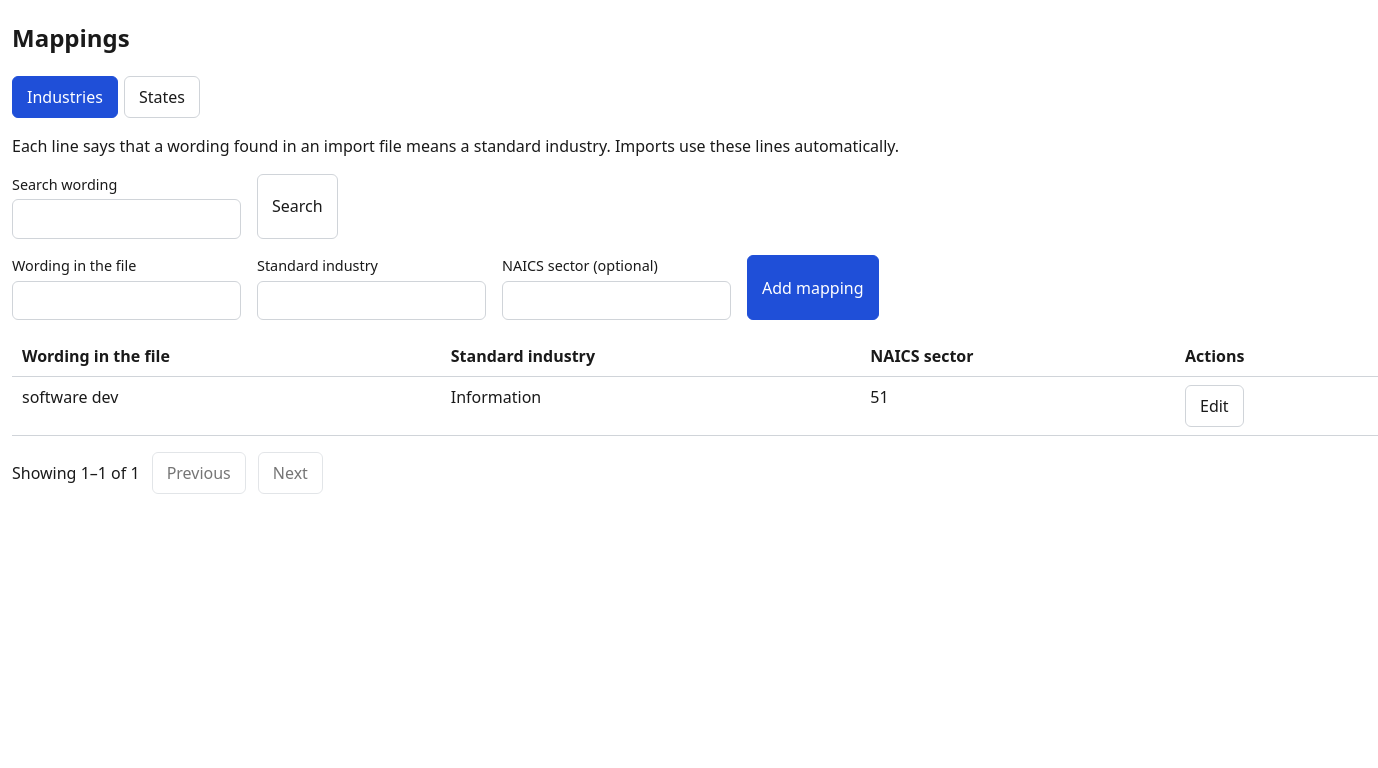
Test: industries › editing saves the changed values and shows a notice
This screenshot has width=1378, height=768.
Expected: the text "software dev" is shown, top-left (12, 377), bottom-right (441, 436)
Click the button with aria-label "Edit software dev". click: (1214, 406)
box: top-left (1185, 385), bottom-right (1244, 427)
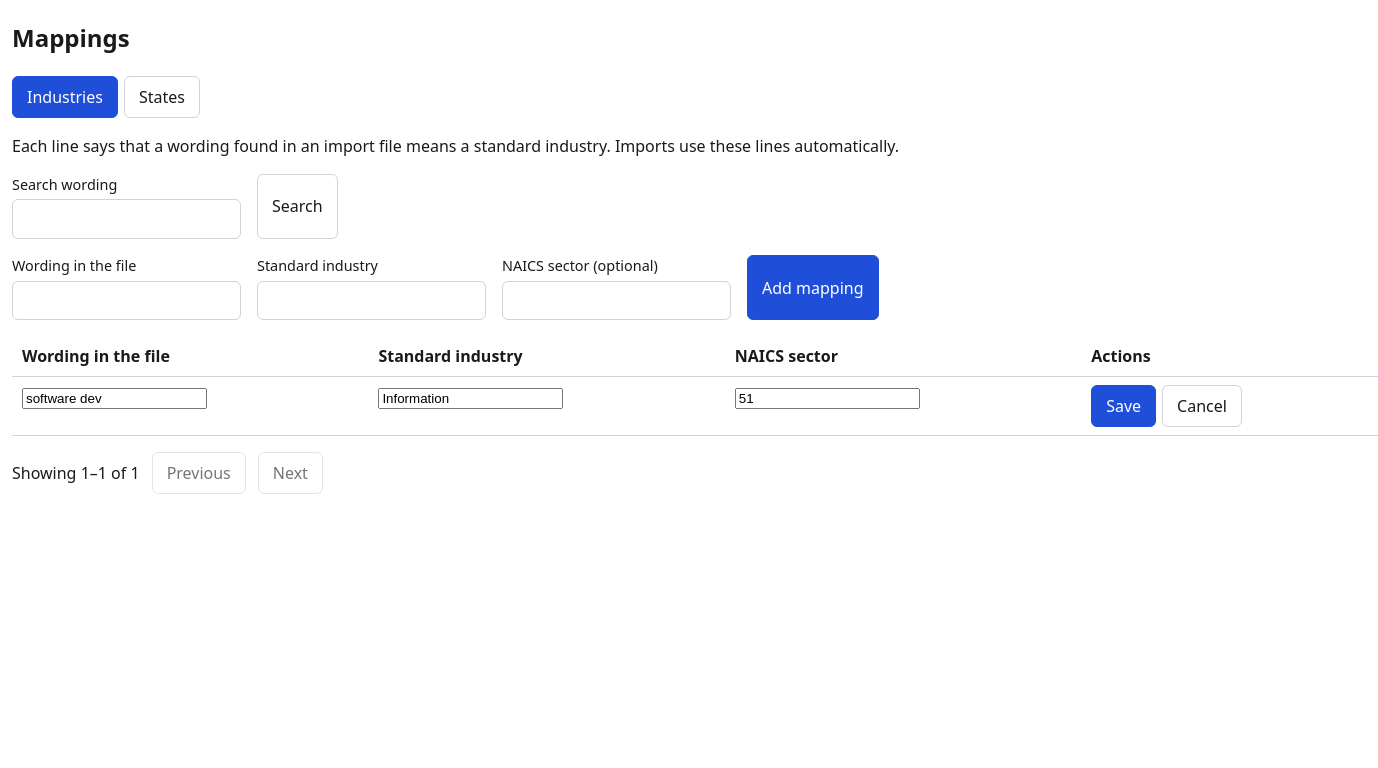
Replace the text in the field named "Standard industry" with "Technology". click: (471, 399)
box: top-left (378, 388), bottom-right (563, 409)
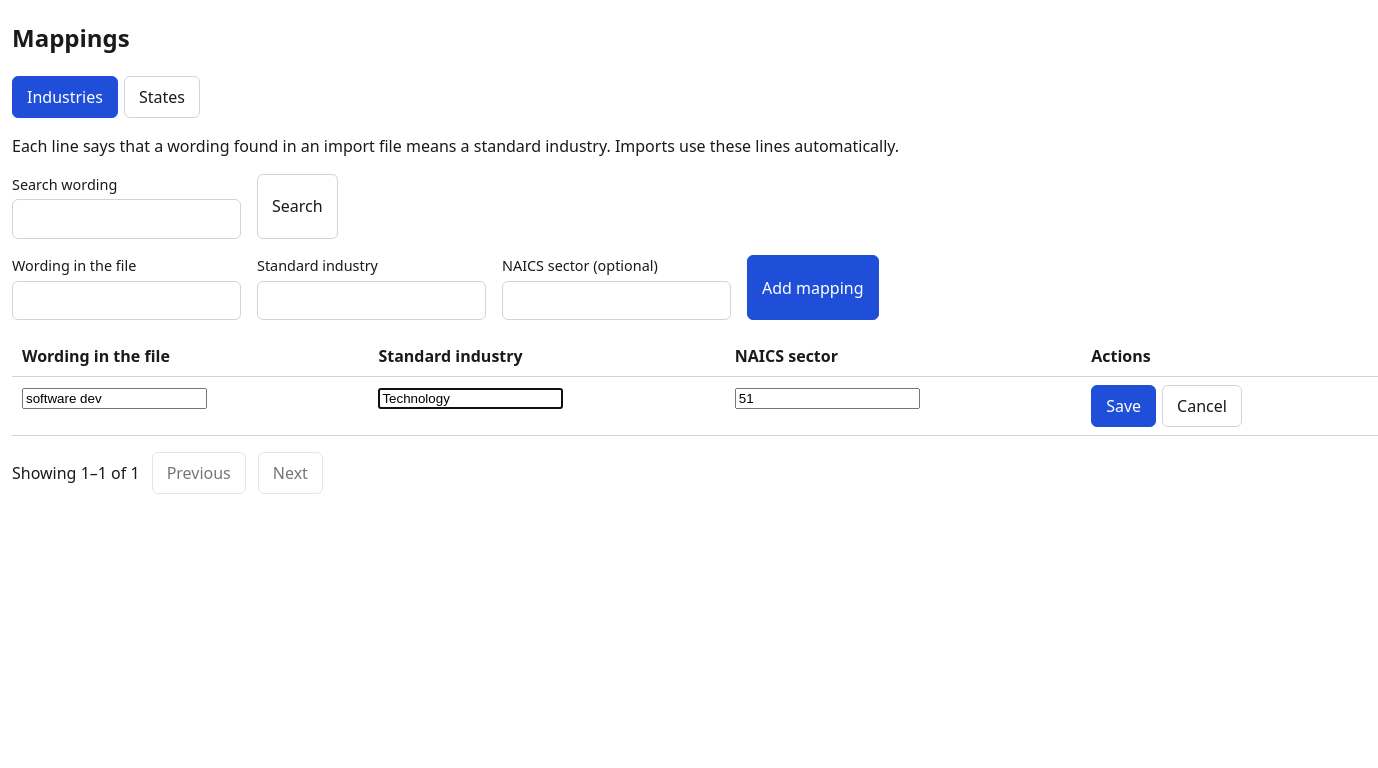
Click the button "Save". click: (1124, 406)
box: top-left (1091, 385), bottom-right (1156, 427)
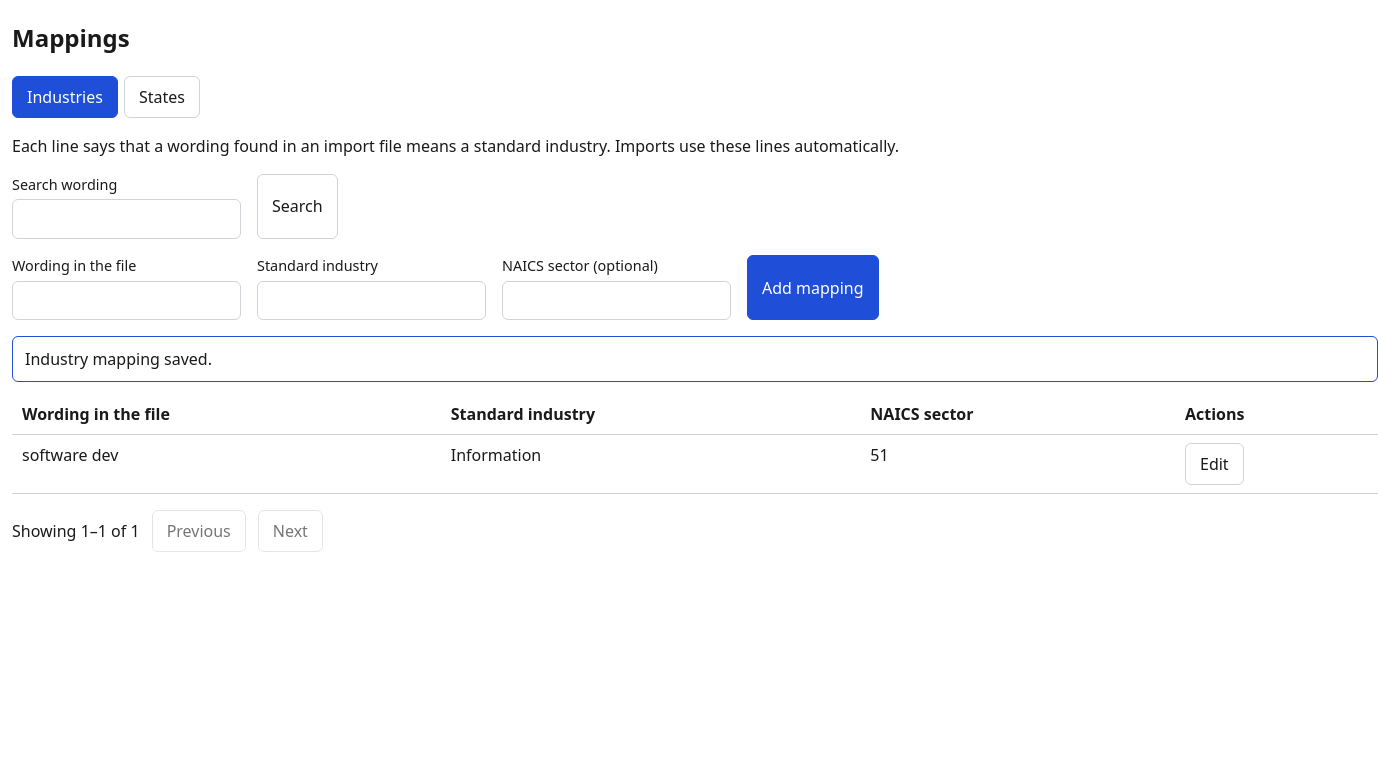
Result: the text "Industry mapping saved." is shown at top-left (12, 336), bottom-right (1377, 382)
